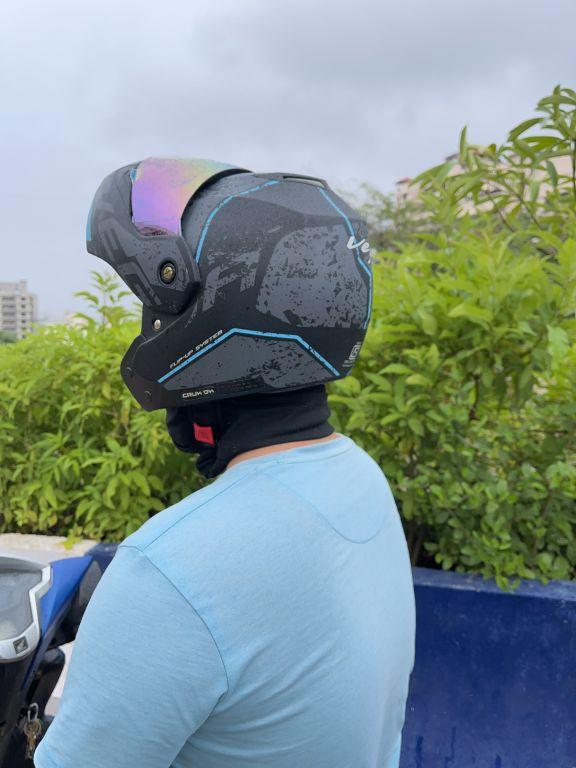helmet: (79, 142, 386, 435)
